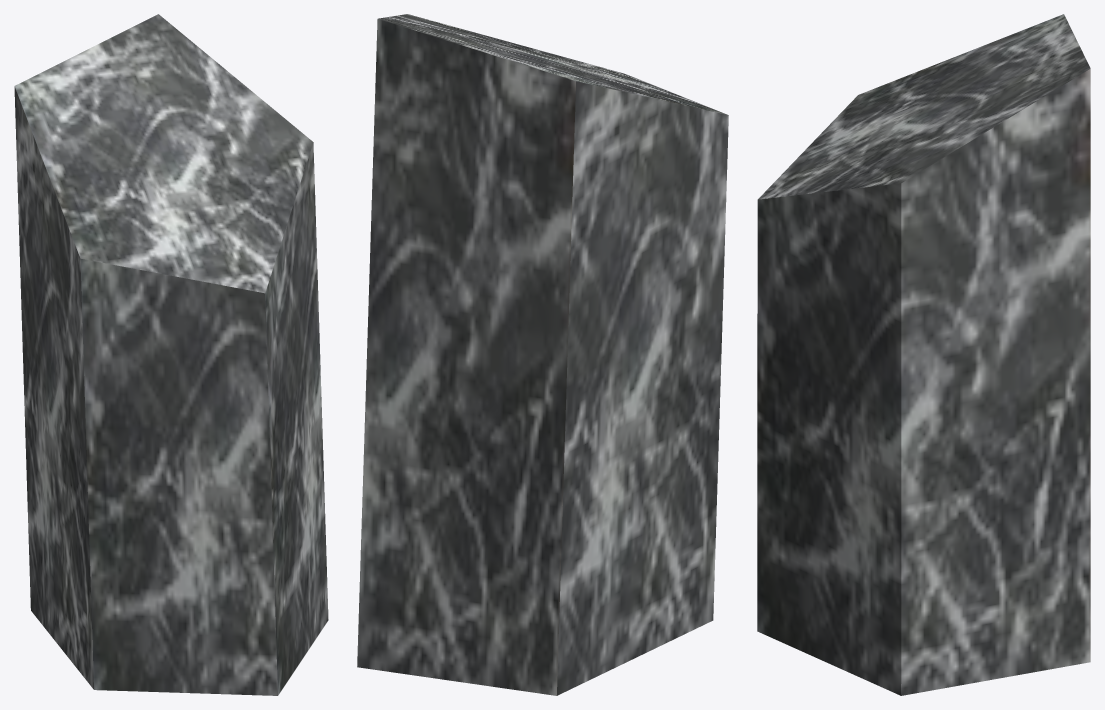
File: ITMI_QUARTZ.glb
The picture shows the model from 3 angles, left to right: view 1: azimuth 30°, elevation 25°; view 2: azimuth 150°, elevation 25°; view 3: azimuth 270°, elevation 25°; orthographic projection. The views are drawn at different scales.
Visible parts, largest first — view 1: ITMI_QUARTZ; view 2: ITMI_QUARTZ; view 3: ITMI_QUARTZ.
Part boxes in pixels (x1,y1,x2,y2): ITMI_QUARTZ: (14, 14, 328, 695); ITMI_QUARTZ: (357, 14, 728, 695); ITMI_QUARTZ: (757, 14, 1090, 695).
Size of the model in its own units: 0.0509 by 0.1014 by 0.0523.
1 material, 1 textured.
